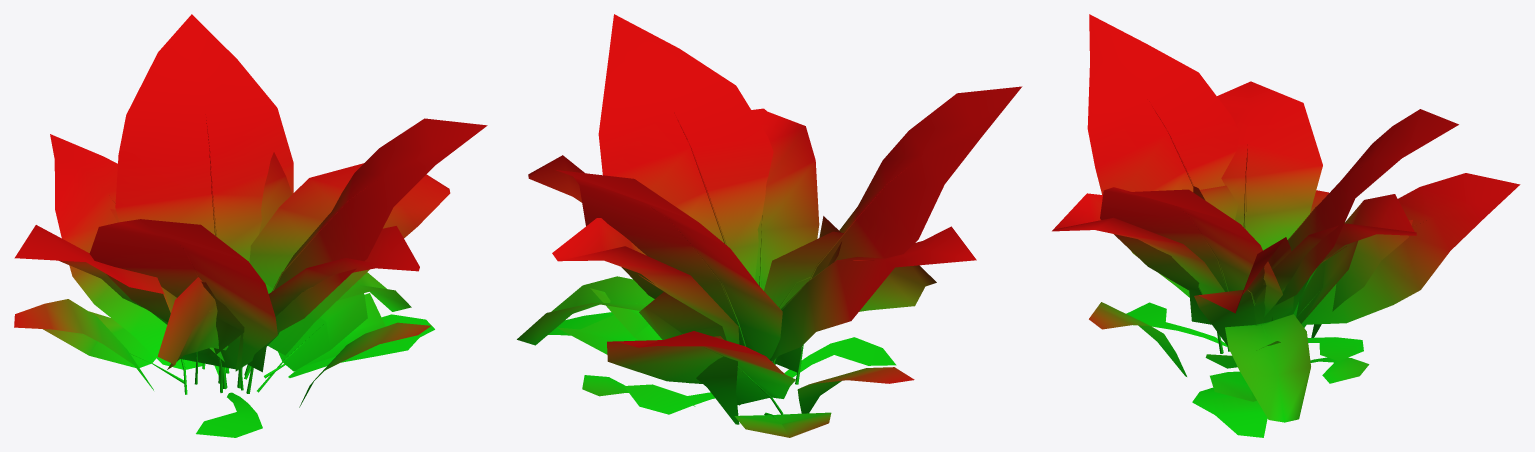
Rendered from Lady Fern_LOD4_Var3_wdvlditia.fbx.
The picture shows the model from 3 angles, left to right: view 1: azimuth 30°, elevation 25°; view 2: azimuth 150°, elevation 25°; view 3: azimuth 270°, elevation 25°; orthographic projection. The views are drawn at different scales.
Parts seen in each view (by area): view 1: _qw19_Var3_LOD4; view 2: _qw19_Var3_LOD4; view 3: _qw19_Var3_LOD4.
Part boxes in pixels (x1=…): _qw19_Var3_LOD4: x1=14, y1=14, x2=487, y2=437; _qw19_Var3_LOD4: x1=517, y1=14, x2=1022, y2=437; _qw19_Var3_LOD4: x1=1052, y1=14, x2=1520, y2=437.
Size of the model in its own units: 66.93 by 42.93 by 66.38.
